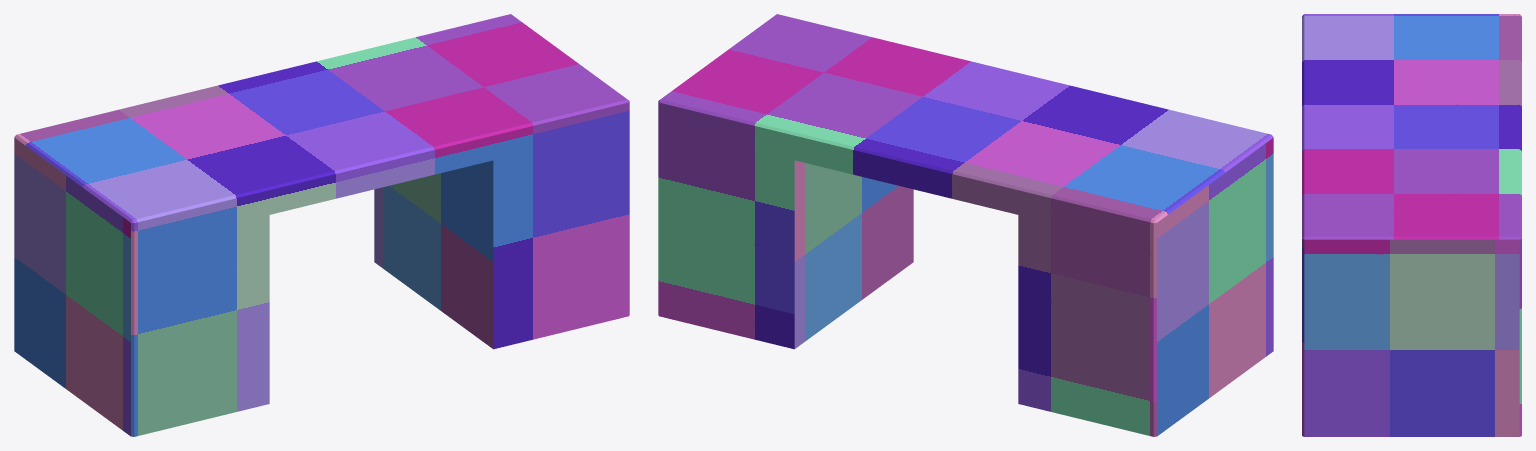
File: rmk_mnc_tableM02_jwl.dae
3 views of the same model, side by side, from view 1: azimuth 30°, elevation 25°; view 2: azimuth 150°, elevation 25°; view 3: azimuth 270°, elevation 25° (orthographic). The views are drawn at different scales.
Parts seen in each view (by area): view 1: rmk_mnc_tableM02_jwl; view 2: rmk_mnc_tableM02_jwl; view 3: rmk_mnc_tableM02_jwl.
Boxes of the visible parts, x1,y1,x2,y2 form: rmk_mnc_tableM02_jwl: [14, 14, 629, 436]; rmk_mnc_tableM02_jwl: [658, 14, 1273, 436]; rmk_mnc_tableM02_jwl: [1302, 14, 1521, 436].
Bounding box in the file's own units: 58 × 24 × 24.
Materials: 1 (1 with a texture image).
